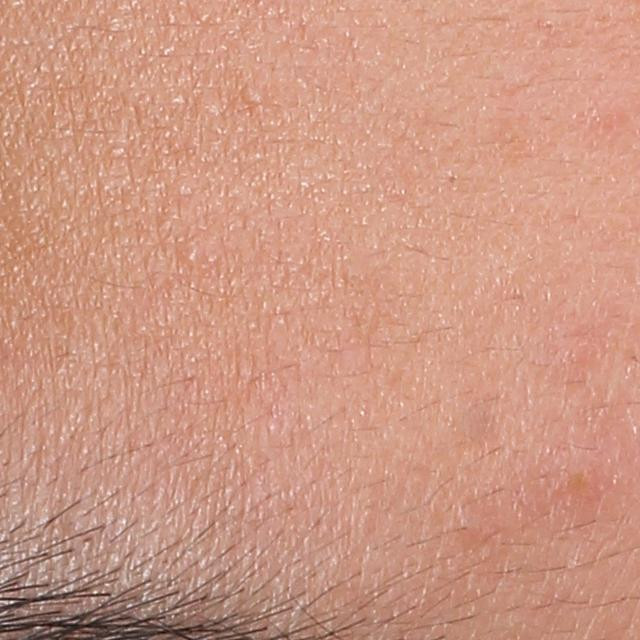comedo: (449, 500, 498, 556), (236, 85, 265, 107), (180, 245, 202, 266)
